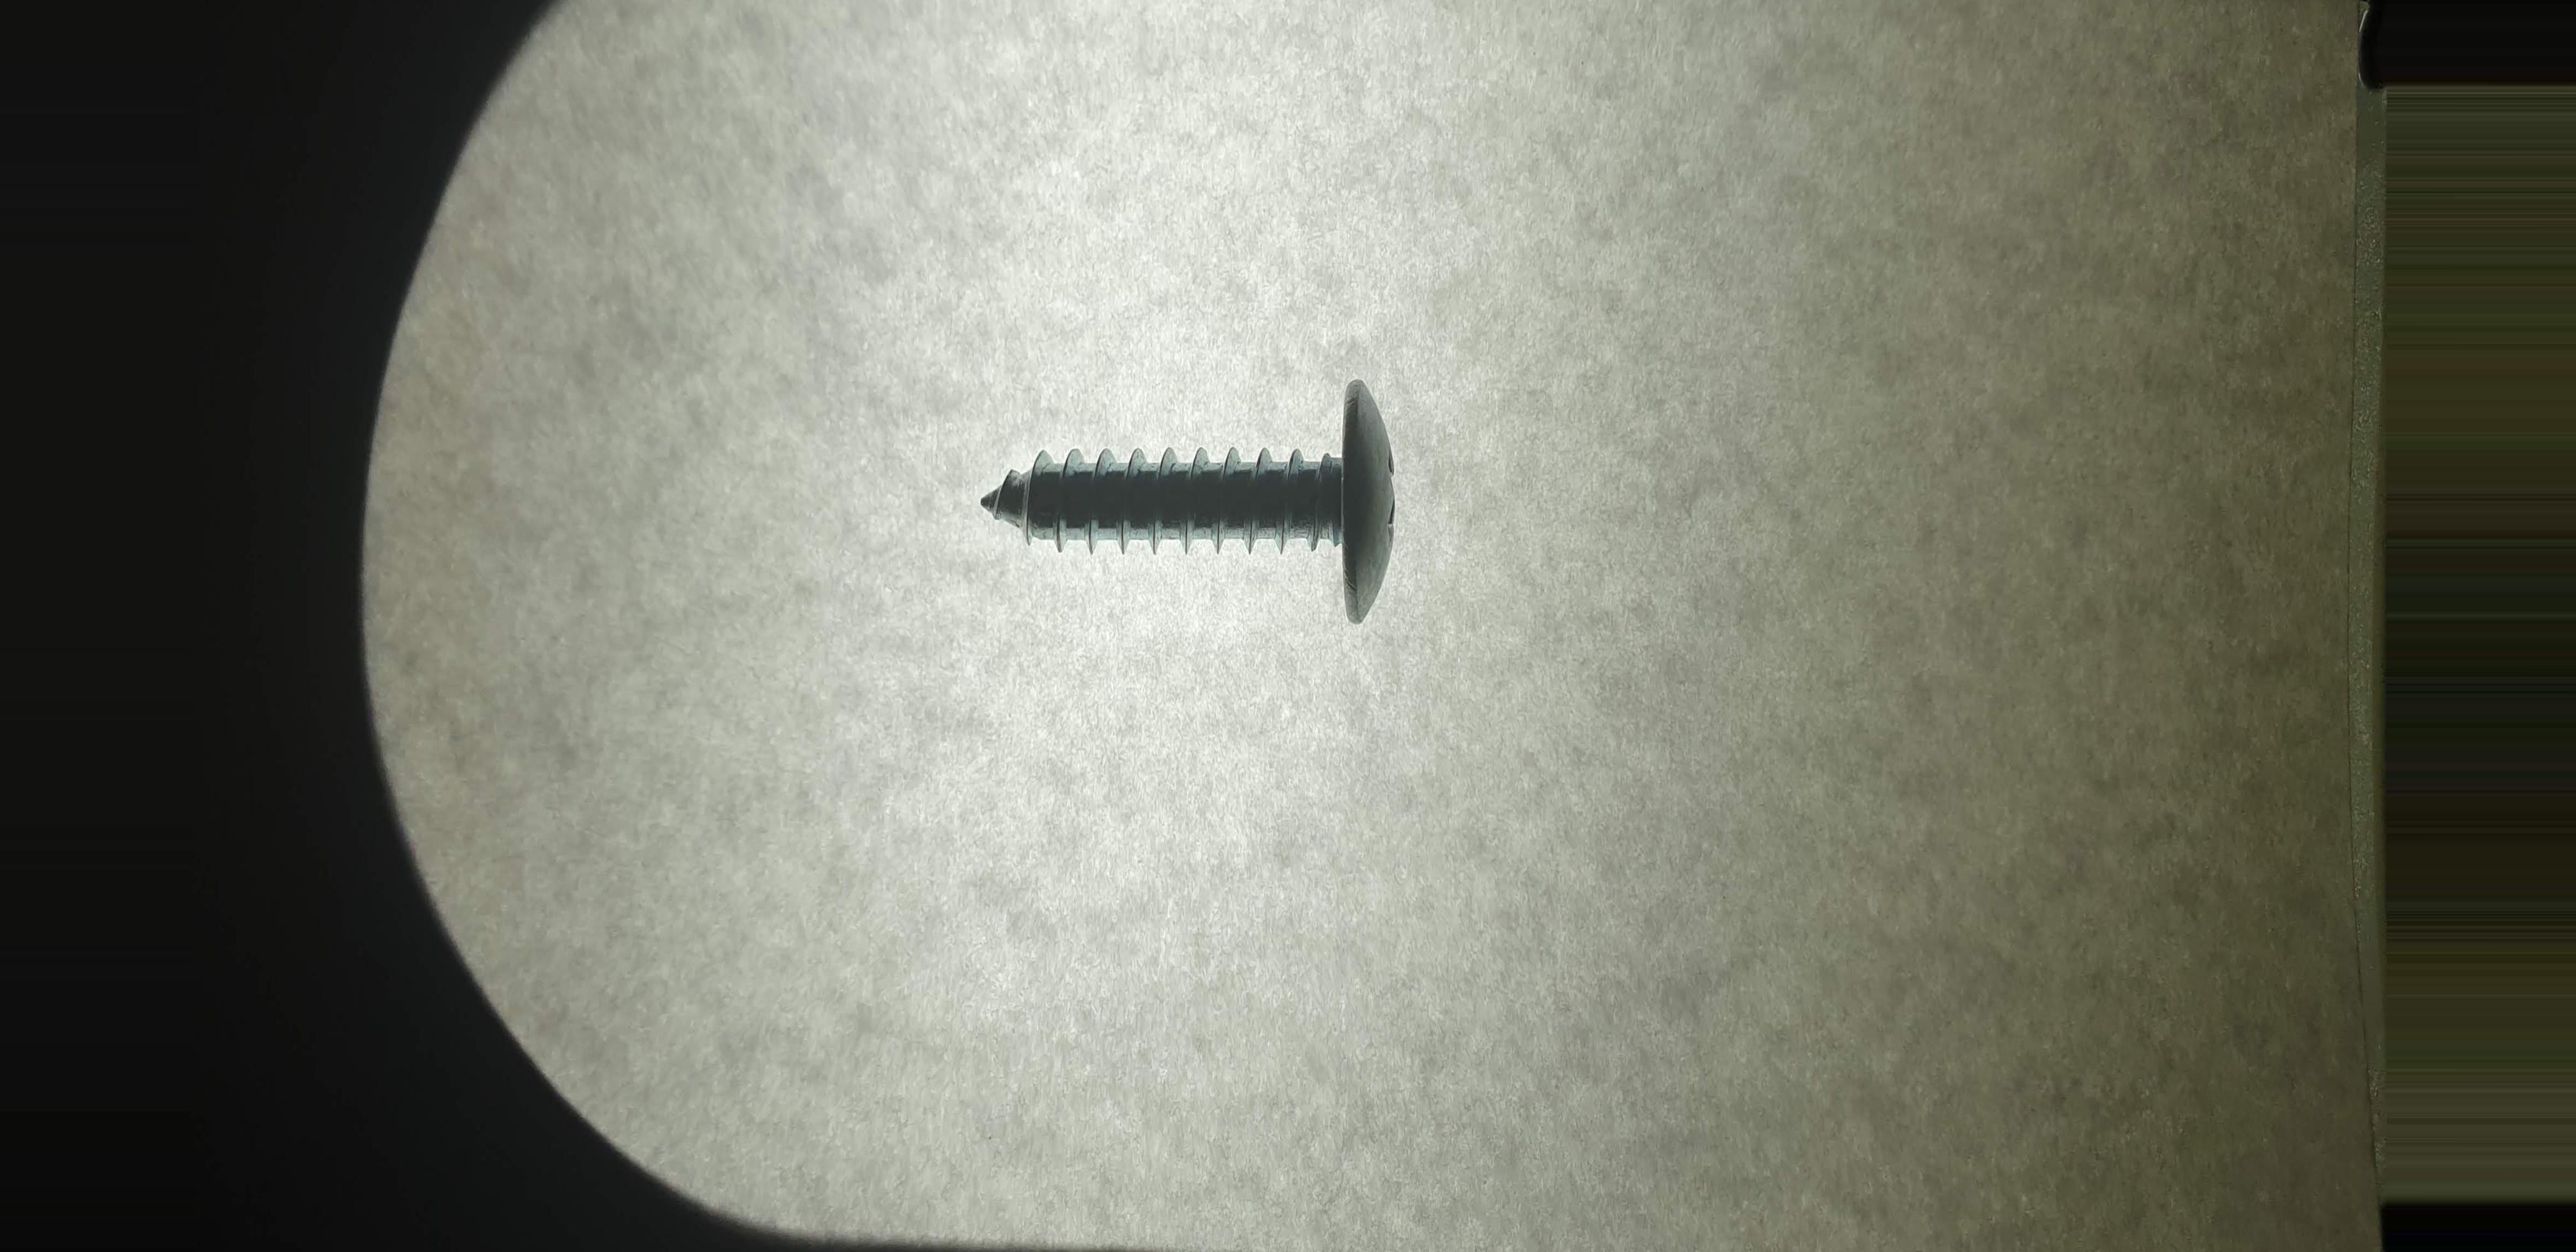S002: (953, 348, 1441, 664)
